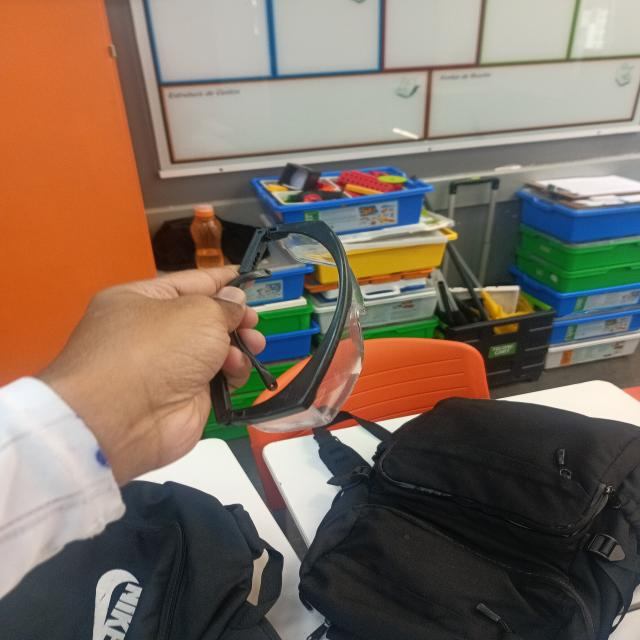oculos-epi: (211, 221, 366, 434)
